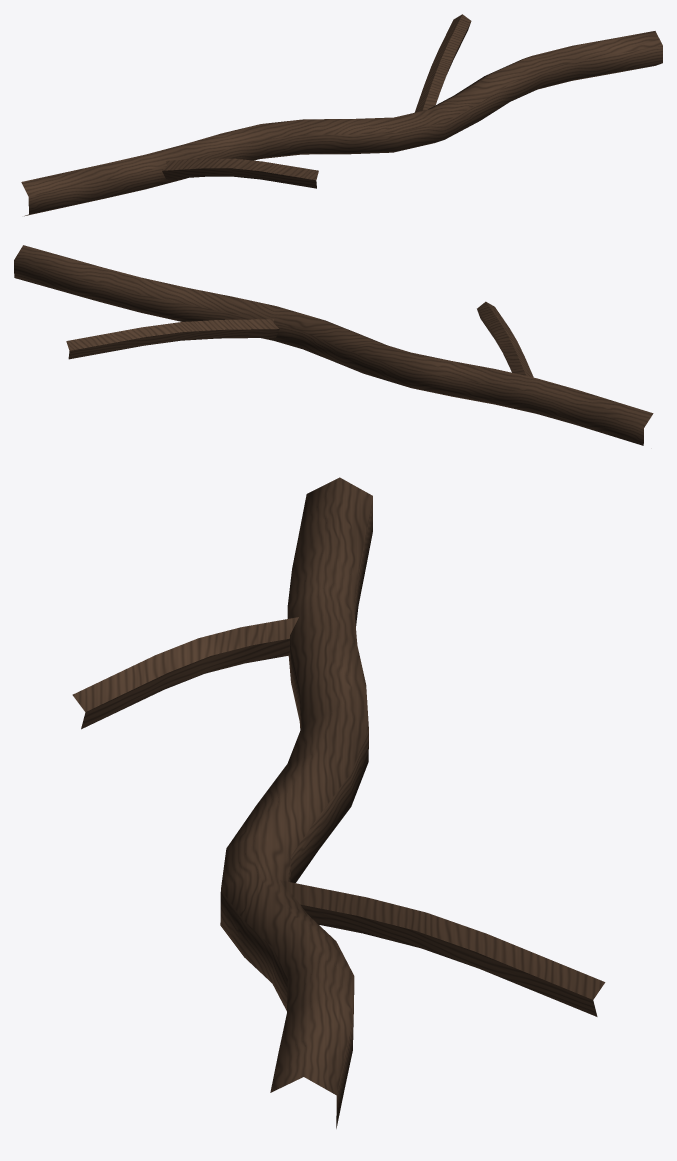
Rendered from twig.glb.
3 renders of one model, top to bottom at view 1: azimuth 30°, elevation 25°; view 2: azimuth 150°, elevation 25°; view 3: azimuth 270°, elevation 25°, orthographic. The views are drawn at different scales.
Parts seen in each view (by area): view 1: twig; view 2: twig; view 3: twig.
Boxes of the visible parts, <box> form: twig: <box>21,14,662,216</box>; twig: <box>14,245,653,445</box>; twig: <box>72,477,605,1128</box>.
Size of the model in its own units: 30.09 by 2.21 by 11.59.
Materials: 1 (1 with a texture image).
